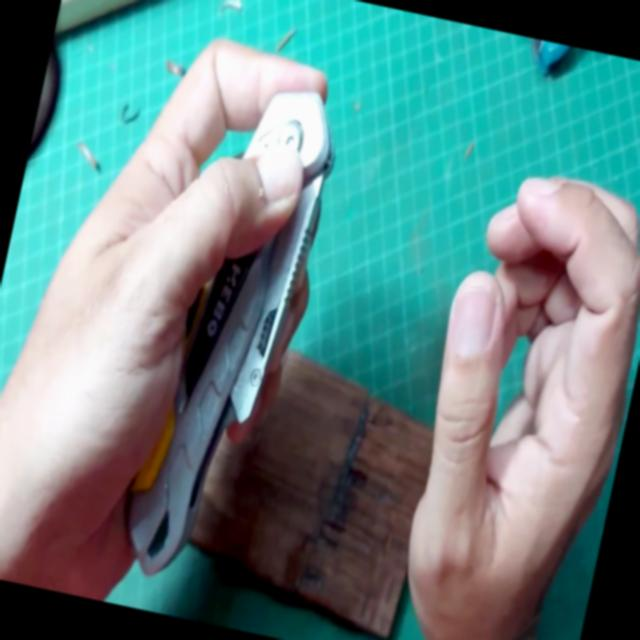cutter: (6, 24, 360, 625)
